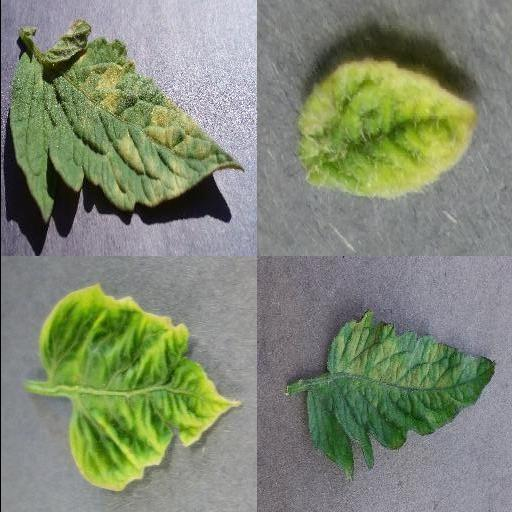Leaf Mold: (7, 19, 243, 223), (303, 314, 497, 484)
Yellow Leaf Curl Virus: (38, 282, 244, 494), (296, 56, 478, 200)
